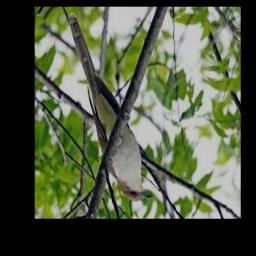Cuckoo: (69, 13, 154, 200)
